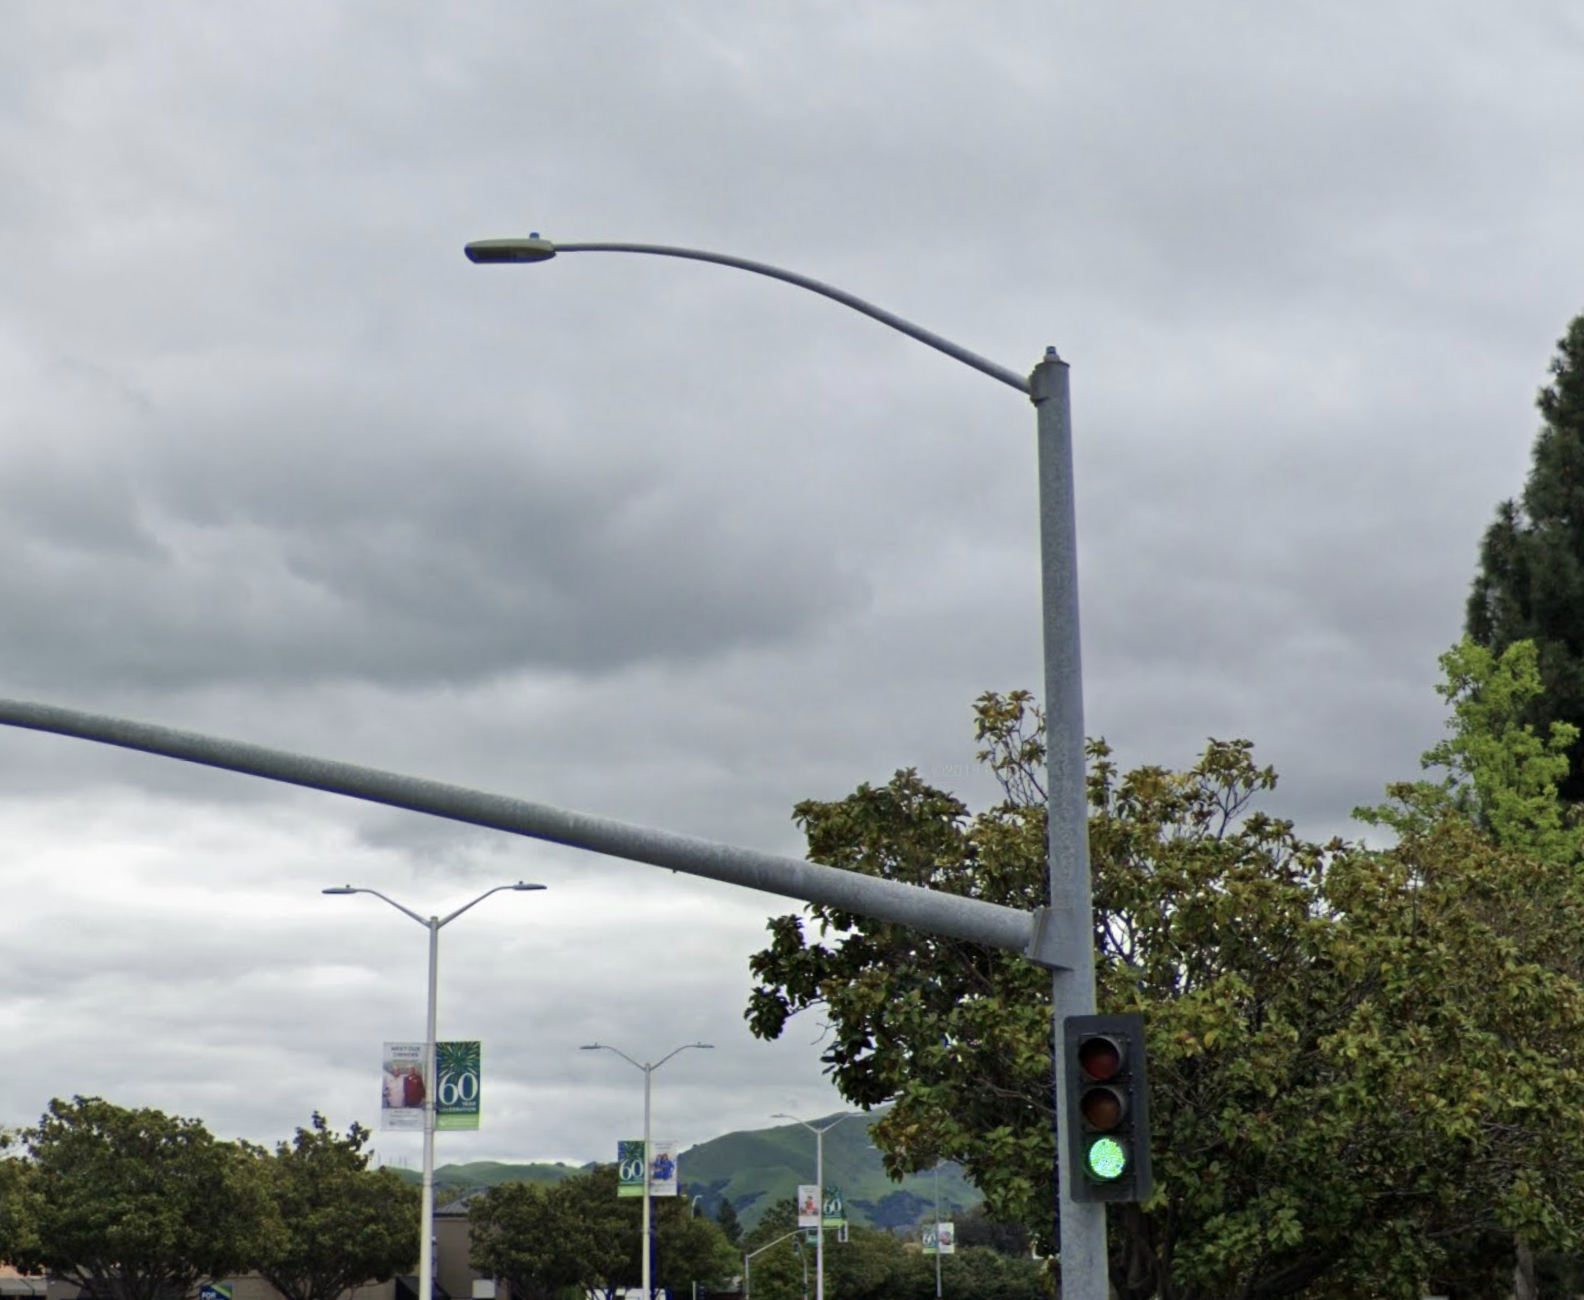pole: (443, 218, 1104, 682)
